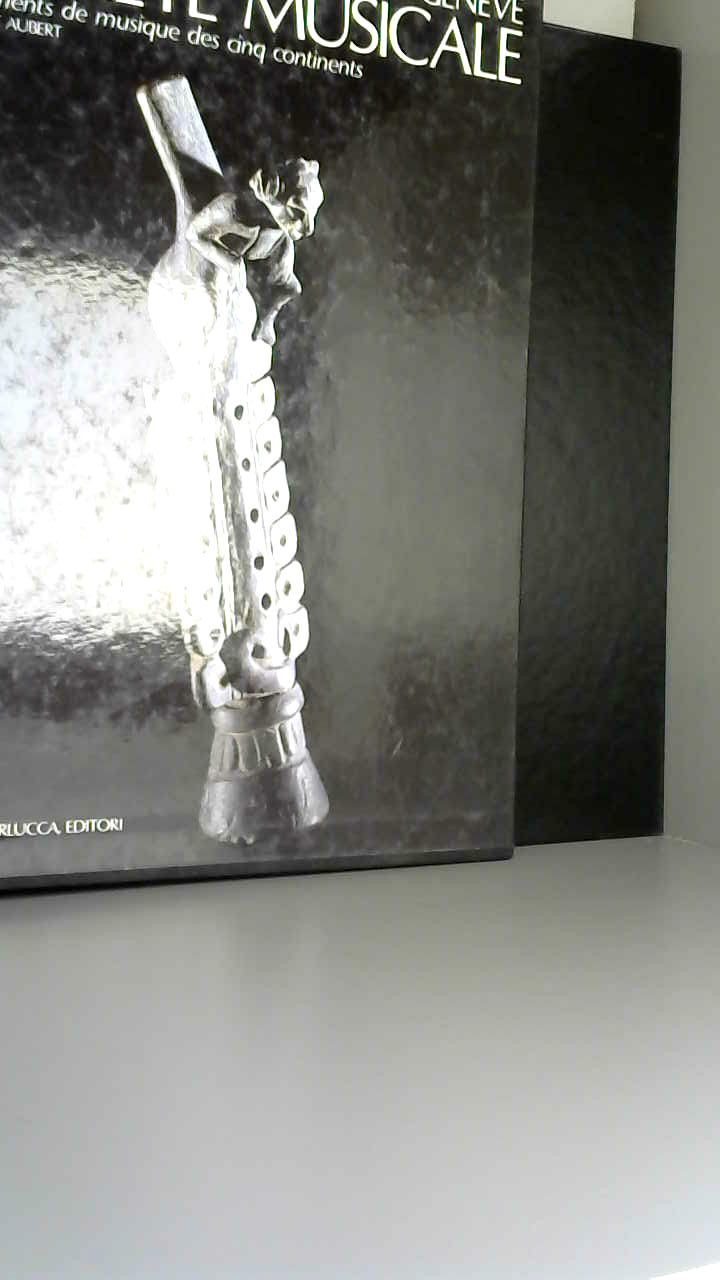book: (0, 0, 699, 916)
